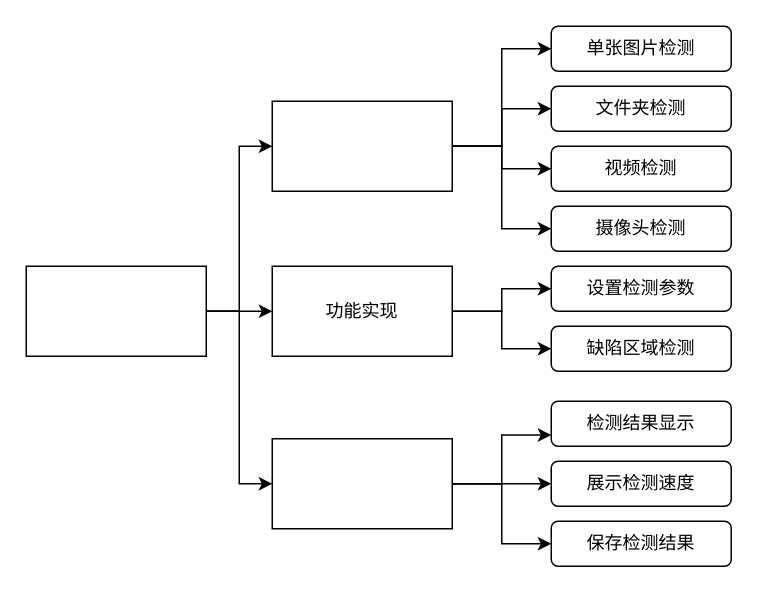
Image size: 758x593. Some labels were removed from this diagram. The shapes that lost their labels are listed below. From the top down, each one's centre as x and y in pixels, then its label:
[361,145]: 检测方式选择
[115,310]: 表面缺陷检测系统
[361,483]: 检测结果获取
